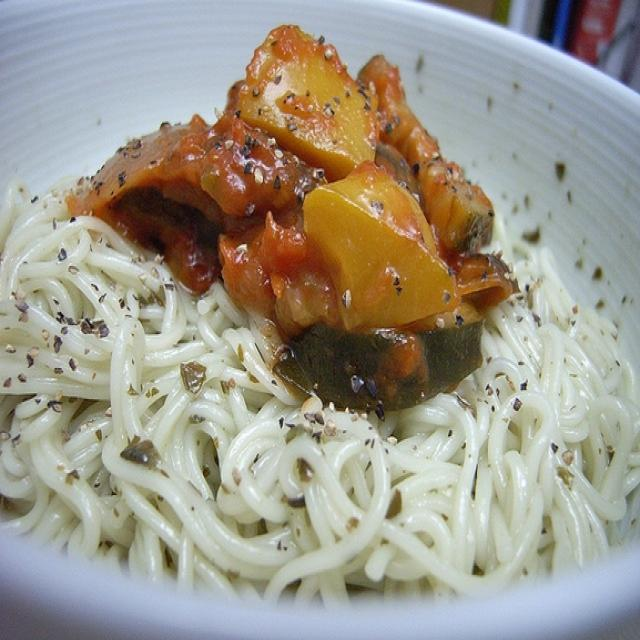面条主食: (0, 0, 626, 631)
